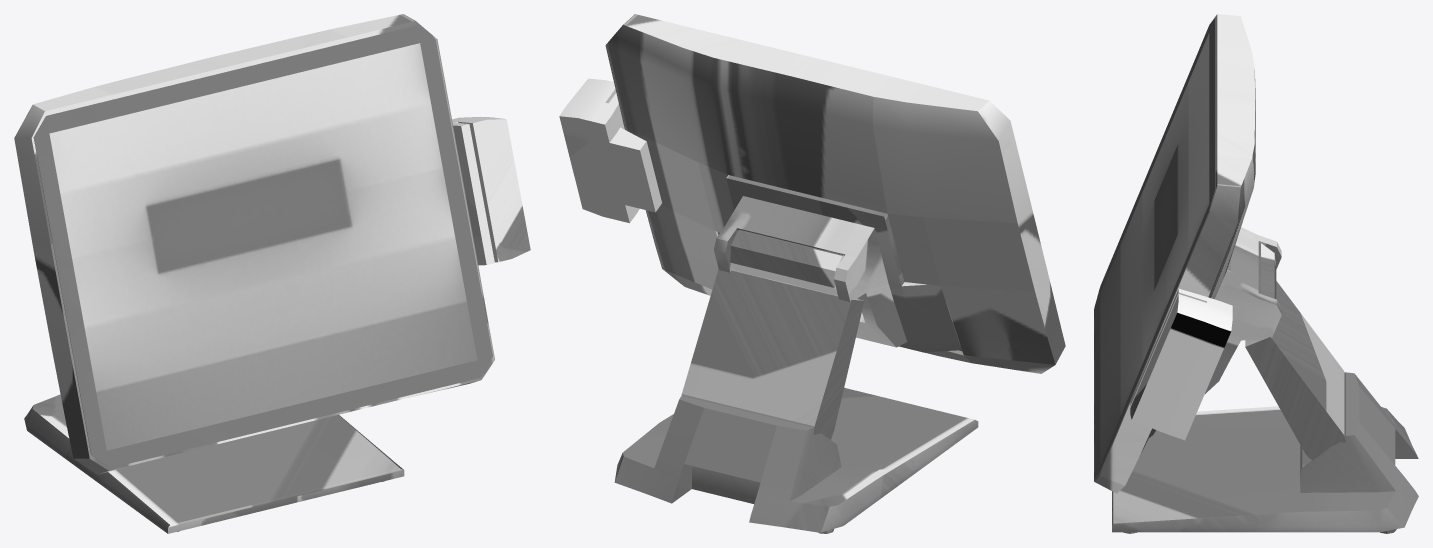
The model's file is UPOS_211_Cradle.fbx.
3 views of the same model, side by side, from view 1: azimuth 30°, elevation 25°; view 2: azimuth 150°, elevation 25°; view 3: azimuth 270°, elevation 25° (orthographic). The views are drawn at different scales.
Parts seen in each view (by area): view 1: A, C, D, B, F; view 2: B, D, G, E, F; view 3: D, A, B, G, F, E, C.
Boxes of the visible parts, x1,y1,x2,y2 form: A: (49,43,477,450); C: (33,25,492,468); D: (24,394,404,533); B: (14,14,494,474); F: (452,117,530,265); B: (605,14,1065,373); D: (614,388,978,533); G: (681,230,864,439); E: (714,175,961,352); F: (559,78,661,223); D: (1112,372,1418,533); A: (1100,33,1209,464); B: (1094,14,1255,493); G: (1245,243,1345,460); F: (1130,288,1232,440); E: (1149,227,1281,437); C: (1094,18,1215,479).
Size of the model in its own units: 39.2 by 32.66 by 25.13.
